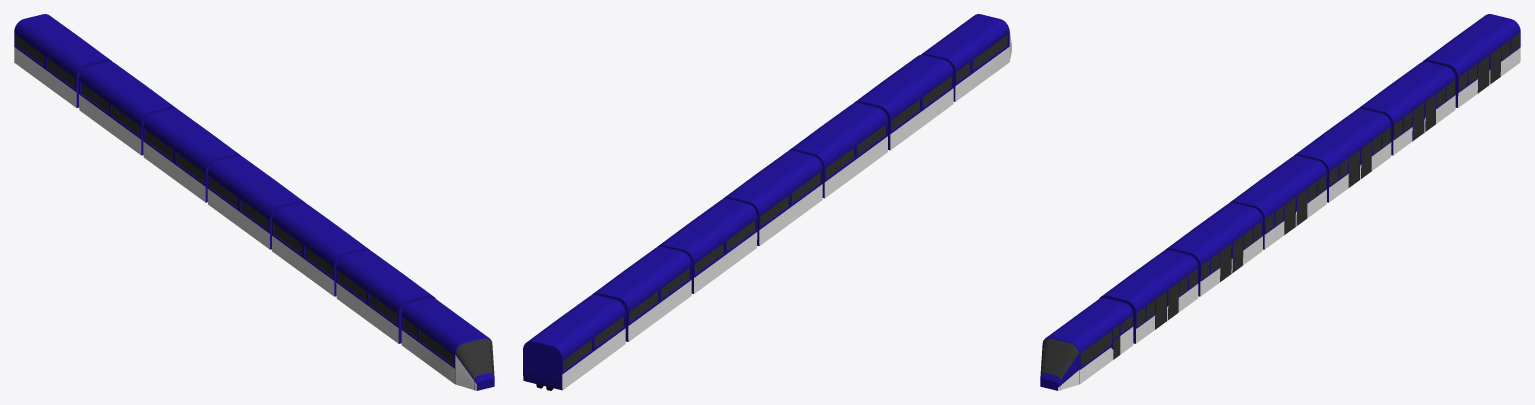
Rendered from train (1).fbx.
3 renders of one model, left to right at view 1: azimuth 30°, elevation 25°; view 2: azimuth 150°, elevation 25°; view 3: azimuth 330°, elevation 25°, orthographic.
Parts seen in each view (by area): view 1: Cube; view 2: Cube; view 3: Cube.
Boxes of the visible parts, bbox=[...] form: Cube: bbox=[14, 14, 494, 390]; Cube: bbox=[523, 14, 1011, 390]; Cube: bbox=[1040, 14, 1520, 390].
Size of the model in its own units: 204 by 236 by 4055.
1 material, 1 textured.
